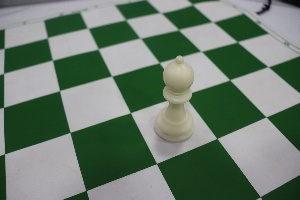white_bishop: (146, 45, 198, 148)
